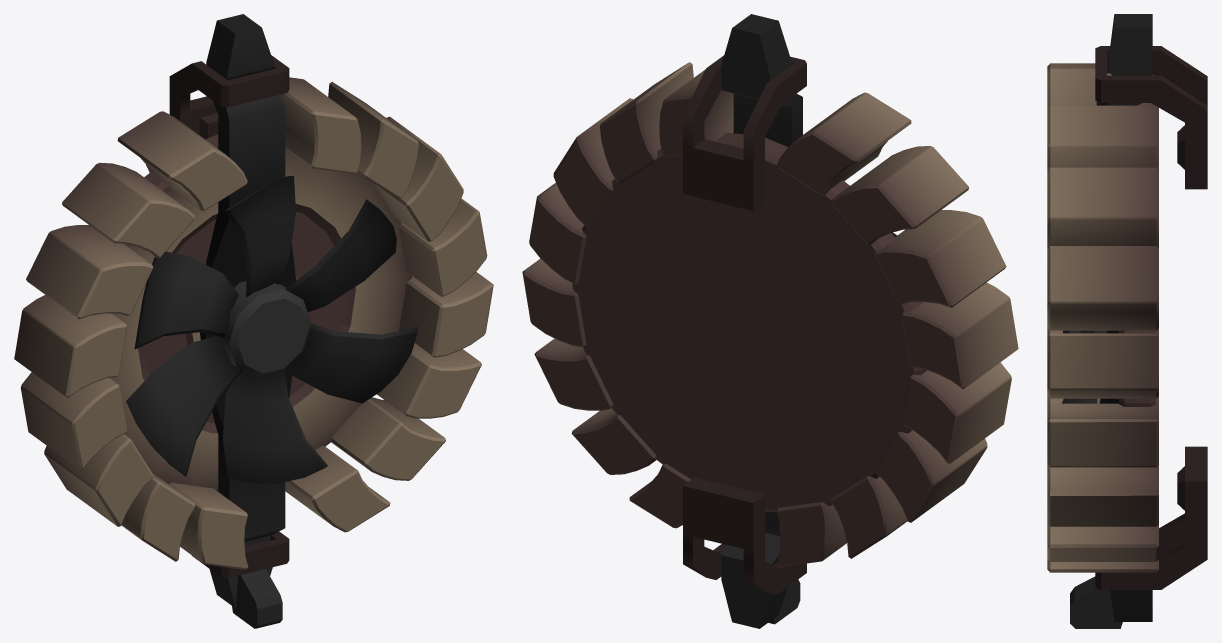
The model's file is Cooling_systems_lvl_01_V07.fbx.
3 views of the same model, side by side, from view 1: azimuth 30°, elevation 25°; view 2: azimuth 150°, elevation 25°; view 3: azimuth 270°, elevation 25° (orthographic). The views are drawn at different scales.
Parts seen in each view (by area): view 1: Body_Cooling, Fan_Cooling; view 2: Body_Cooling; view 3: Body_Cooling, Fan_Cooling.
Part boxes in pixels (x1,y1,x2,y2): Body_Cooling: (14, 14, 493, 628); Fan_Cooling: (126, 175, 418, 483); Body_Cooling: (522, 14, 1018, 628); Body_Cooling: (1047, 14, 1207, 628); Fan_Cooling: (1062, 330, 1106, 403).
Size of the model in its own units: 37.75 by 48.98 by 11.8.
